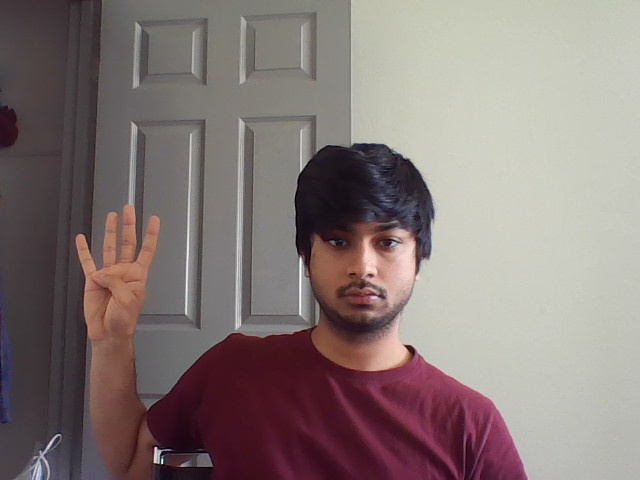four: (73, 201, 163, 274)
